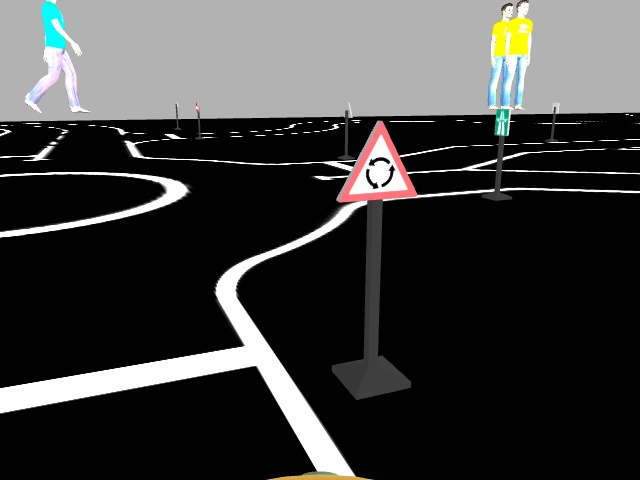HighwayEntrance: (491, 105, 513, 137)
Roundabout: (335, 116, 420, 207)
